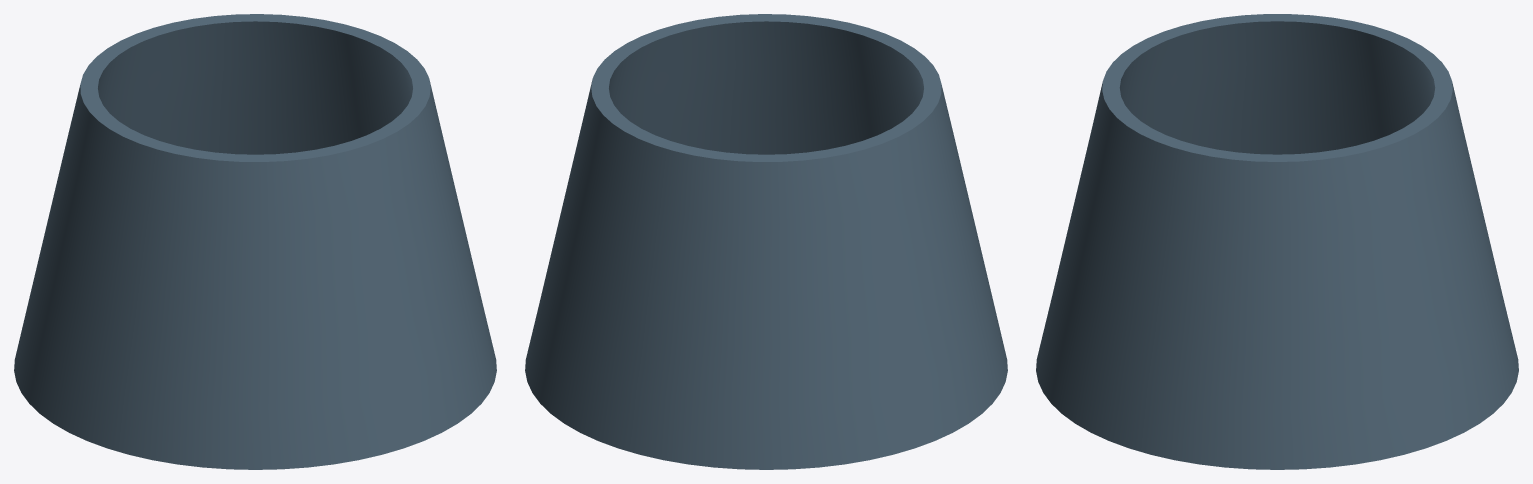
Rendered from perehod-219x10-159x8-L140.glb.
3 renders of one model, left to right at view 1: azimuth 30°, elevation 25°; view 2: azimuth 150°, elevation 25°; view 3: azimuth 270°, elevation 25°, orthographic.
Visible parts, largest first — view 1: Open CASCADE STEP translator 7.9 43; view 2: Open CASCADE STEP translator 7.9 43; view 3: Open CASCADE STEP translator 7.9 43.
Part boxes in pixels (x1,y1,x2,y2): Open CASCADE STEP translator 7.9 43: (14, 14, 496, 469); Open CASCADE STEP translator 7.9 43: (525, 14, 1007, 469); Open CASCADE STEP translator 7.9 43: (1036, 14, 1518, 469).
Size of the model in its own units: 219 by 140 by 219.
